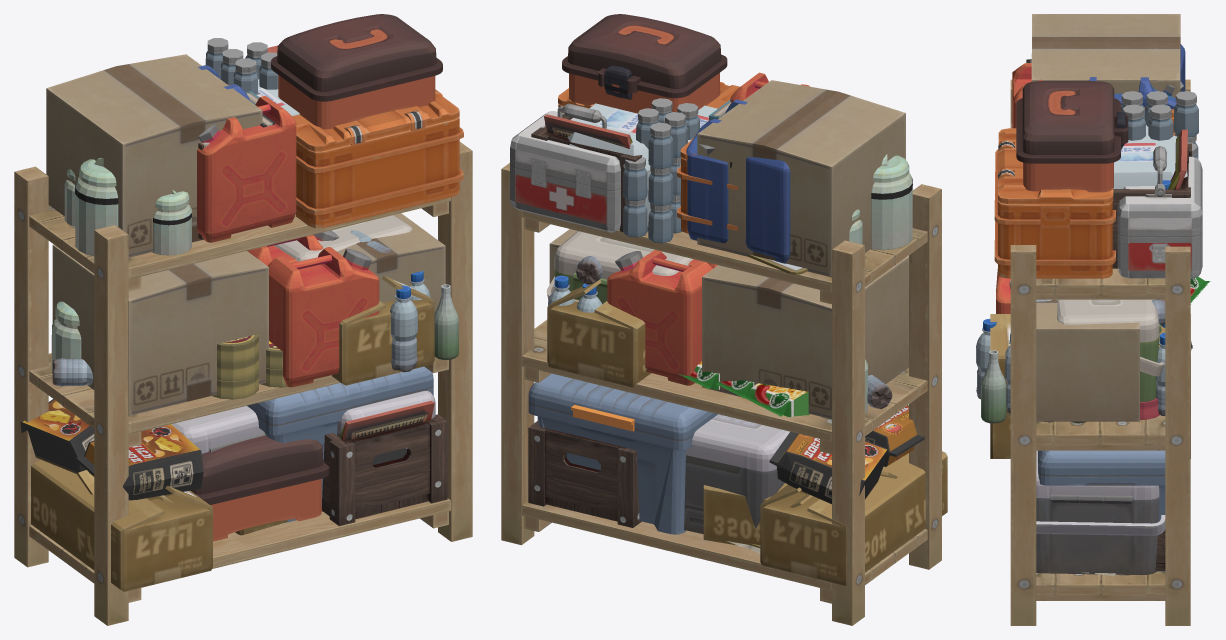
File: Home_04.obj
3 renders of one model, left to right at view 1: azimuth 30°, elevation 25°; view 2: azimuth 150°, elevation 25°; view 3: azimuth 270°, elevation 25°, orthographic. The views are drawn at different scales.
Bounding box in the file's own units: 1.87 × 2.42 × 1.07.
Materials: 150 (150 with a texture image).
